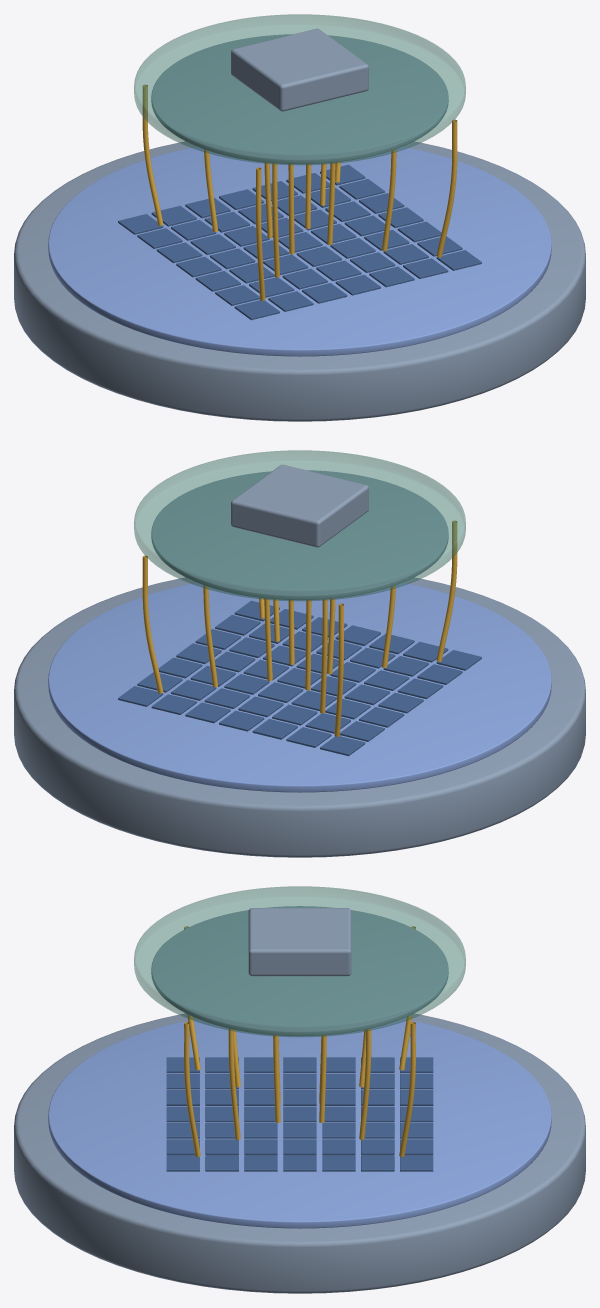
3 views of the same model, one above another, from view 1: azimuth 30°, elevation 25°; view 2: azimuth 150°, elevation 25°; view 3: azimuth 270°, elevation 25° (orthographic).
Parts seen in each view (by area): view 1: wafer, chuck, pcb, ring, head, probe.005, probe.011, probe.008, probe.007, probe.010, die.003, die.015 (+27 smaller); view 2: wafer, chuck, pcb, ring, head, probe.008, probe.002, probe.005, probe.004, probe.001, die.003, die.019 (+27 smaller); view 3: wafer, chuck, pcb, ring, head, probe.002, probe.011, probe.001, probe.010, die.010, die.024, die.038 (+20 smaller).
Part boxes in pixels (box(x1,y1,x2,y2)): wafer: box(48, 147, 551, 356); chuck: box(14, 141, 585, 421); pcb: box(134, 14, 465, 165); ring: box(151, 34, 448, 164); head: box(231, 28, 368, 111); probe.005: box(142, 84, 163, 225); probe.011: box(436, 119, 457, 257); probe.008: box(256, 167, 265, 300); probe.007: box(272, 163, 279, 277); probe.010: box(382, 149, 396, 251); die.003: box(176, 256, 221, 277); die.015: box(282, 268, 327, 289); wafer: box(48, 583, 551, 792); chuck: box(14, 577, 585, 857); pcb: box(134, 450, 465, 601); ring: box(151, 470, 448, 600); head: box(231, 464, 368, 547); probe.008: box(436, 520, 457, 661); probe.002: box(142, 555, 163, 693); probe.005: box(334, 603, 343, 736); probe.004: box(320, 599, 327, 713); probe.001: box(203, 585, 217, 687); die.003: box(378, 692, 423, 713); die.019: box(272, 704, 317, 725); wafer: box(48, 1019, 551, 1228); chuck: box(14, 1013, 585, 1293); pcb: box(134, 886, 465, 1037); ring: box(151, 906, 448, 1036); head: box(248, 908, 351, 976); probe.002: box(399, 1022, 415, 1156); probe.011: box(184, 1022, 200, 1156); probe.001: box(359, 1028, 371, 1139); probe.010: box(228, 1028, 240, 1139); die.010: box(283, 1073, 316, 1089); die.024: box(283, 1106, 316, 1122); die.038: box(283, 1139, 316, 1155).
Bounding box in the file's own units: 5 × 2.37 × 5.
